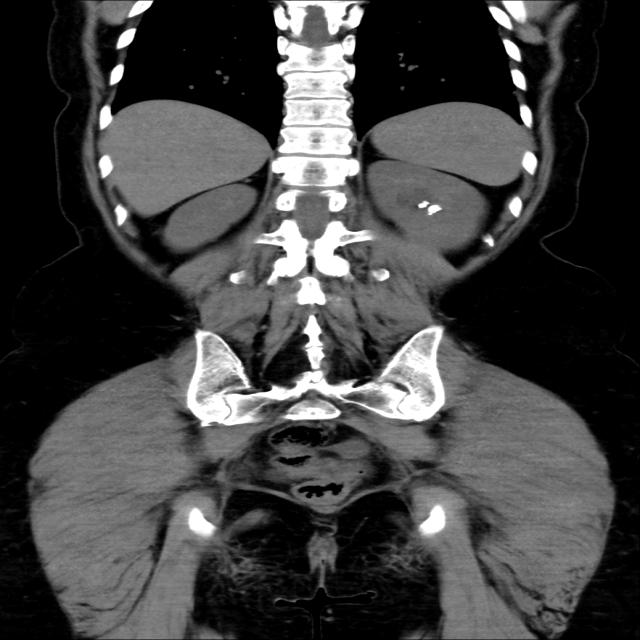kidneystone: (418, 201, 442, 214)
